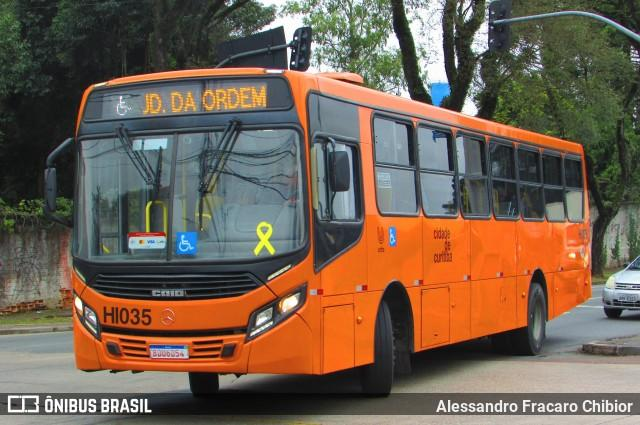JD DA ORDEM: (137, 83, 272, 119)
